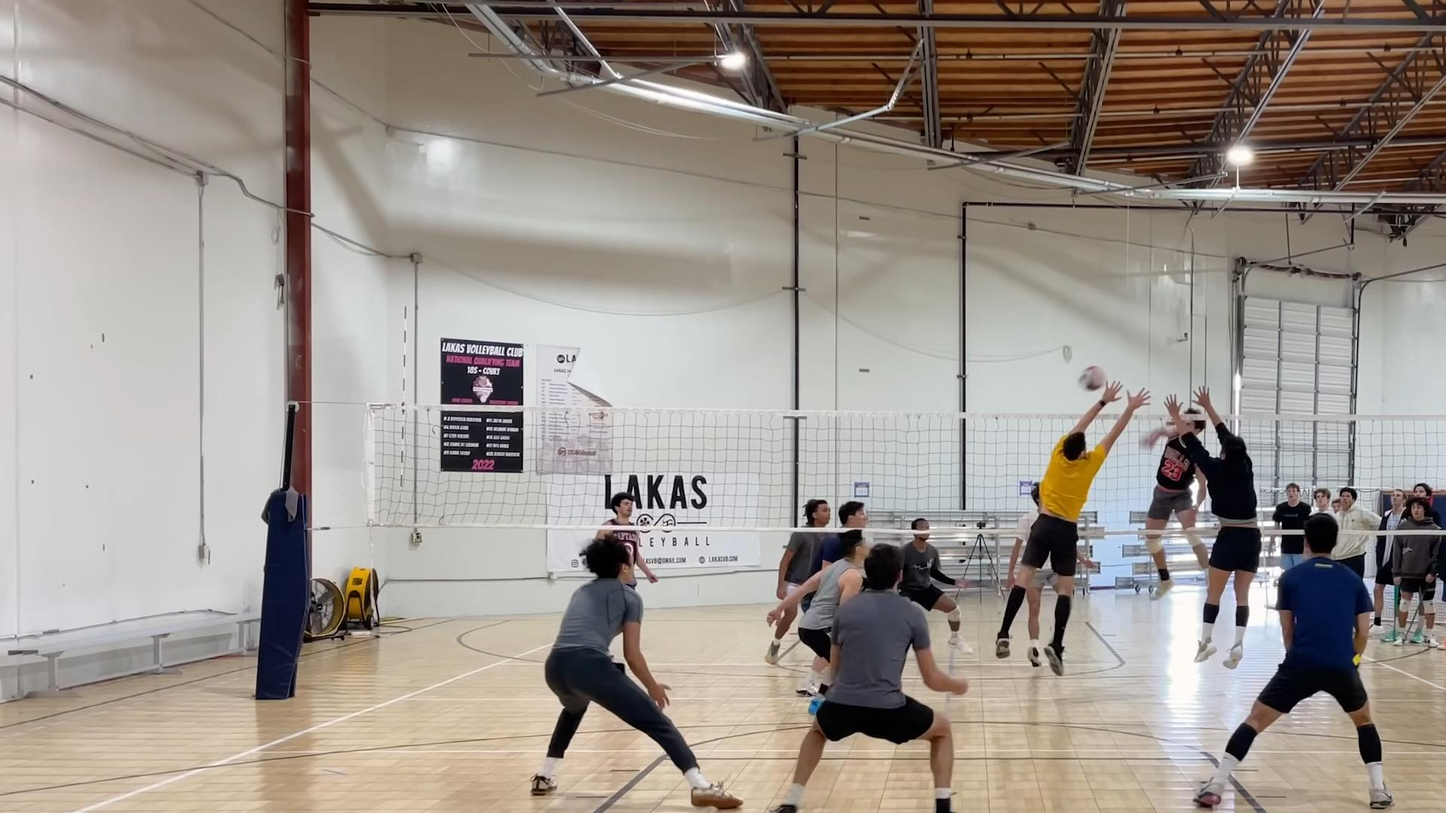attacco: (1127, 381, 1219, 597)
difesa: (525, 535, 749, 802)
muro: (985, 379, 1173, 673), (1162, 385, 1266, 679)
